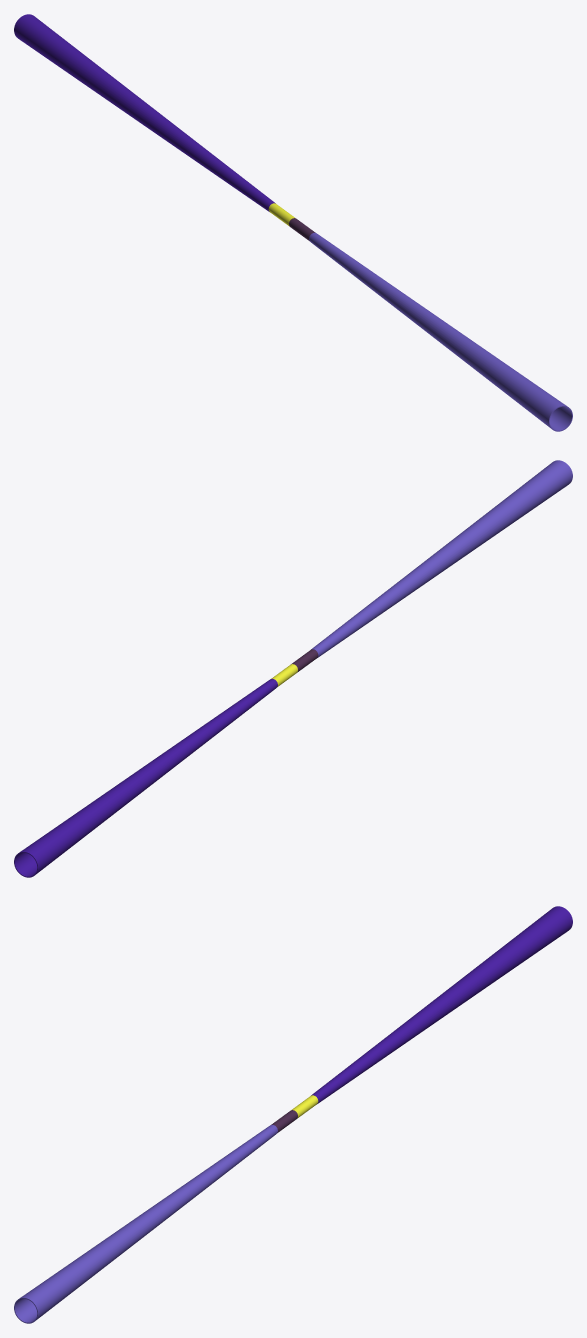
File: ALLEGRO_o1_v03.gltf
3 renders of one model, top to bottom at view 1: azimuth 30°, elevation 25°; view 2: azimuth 150°, elevation 25°; view 3: azimuth 330°, elevation 25°, orthographic.
Visible parts, largest first — view 1: tube_AlBeMet162_wall_6, tube_AlBeMet162_wall2_7; view 2: tube_AlBeMet162_wall2_7, tube_AlBeMet162_wall_6; view 3: tube_AlBeMet162_wall_6, tube_AlBeMet162_wall2_7.
Part boxes in pixels (box(x1,y1,x2,y2)): tube_AlBeMet162_wall_6: box(309, 232, 572, 431); tube_AlBeMet162_wall2_7: box(14, 14, 275, 211); tube_AlBeMet162_wall2_7: box(14, 678, 277, 877); tube_AlBeMet162_wall_6: box(311, 460, 572, 657); tube_AlBeMet162_wall_6: box(14, 1124, 277, 1323); tube_AlBeMet162_wall2_7: box(311, 906, 572, 1103).
Size of the model in its own units: 6.18 by 6.15 by 238.
